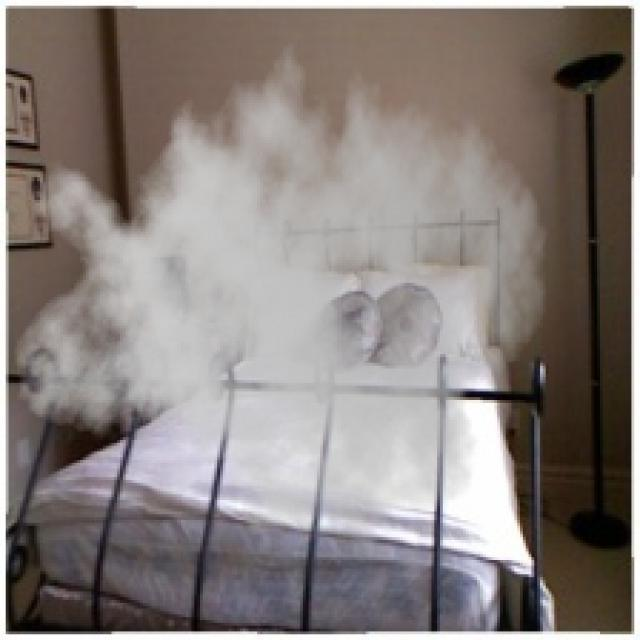Smoke: (11, 20, 548, 569)
